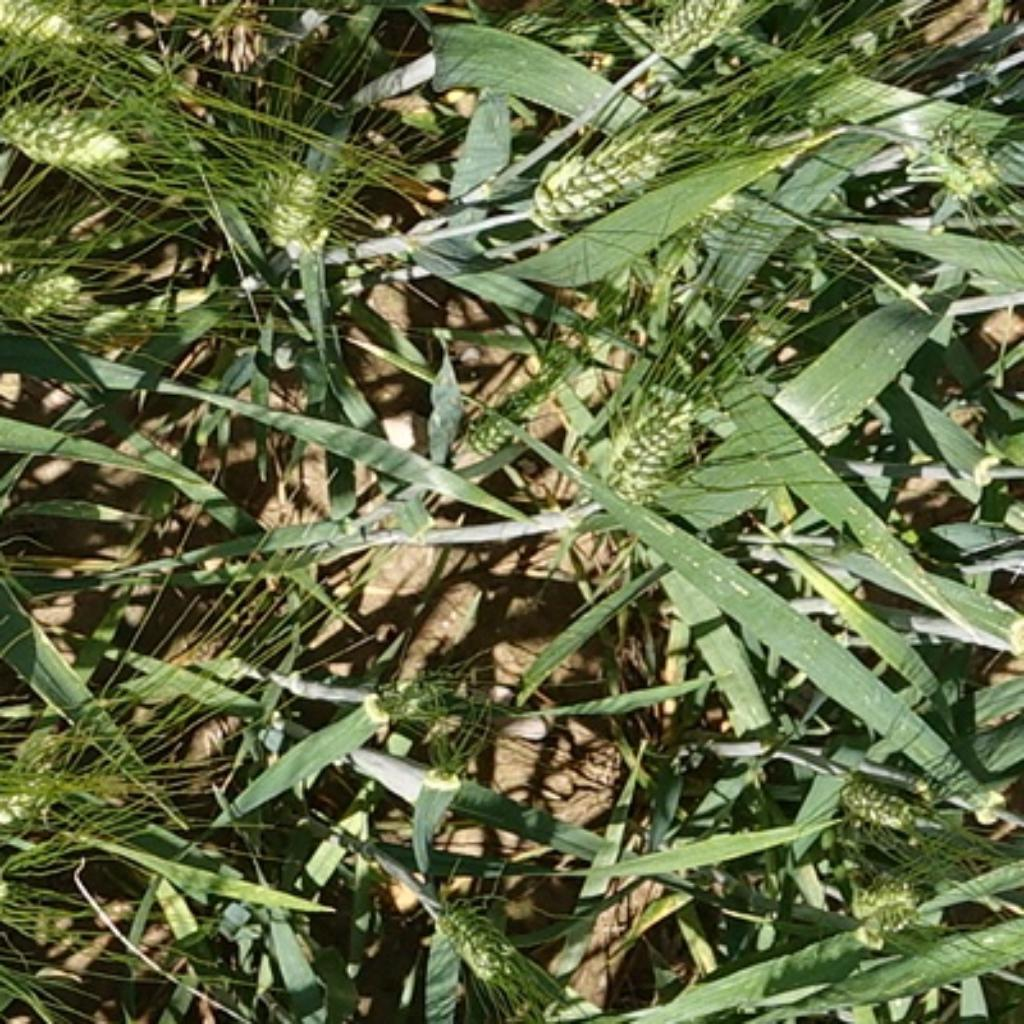0-0: (527, 114, 691, 226), (588, 373, 704, 496), (427, 878, 547, 993), (0, 81, 133, 171), (240, 145, 335, 250), (904, 118, 1005, 206), (829, 757, 934, 834), (0, 0, 120, 64), (450, 373, 542, 455), (347, 656, 450, 728), (637, 0, 757, 61), (0, 243, 89, 322), (0, 752, 74, 847), (839, 862, 924, 936)
